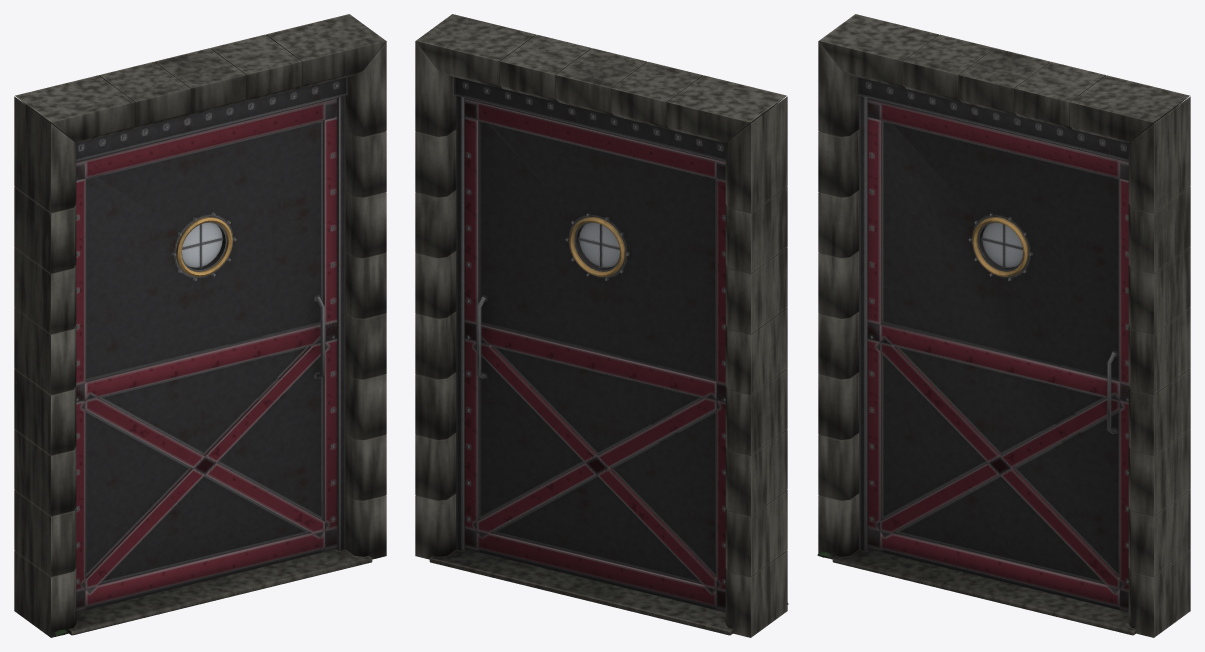
File: SlidingIronDoor.fbx
3 renders of one model, left to right at view 1: azimuth 30°, elevation 25°; view 2: azimuth 150°, elevation 25°; view 3: azimuth 330°, elevation 25°, orthographic.
Parts seen in each view (by area): view 1: SlidingIronDoor_Leaf0, SlidingIronDoor_Main, SlidingIronDoor_Leaf0Glass; view 2: SlidingIronDoor_Leaf0, SlidingIronDoor_Main, SlidingIronDoor_Leaf0Glass; view 3: SlidingIronDoor_Leaf0, SlidingIronDoor_Main, SlidingIronDoor_Leaf0Glass.
Boxes of the visible parts, x1,y1,x2,y2 form: SlidingIronDoor_Leaf0: (76, 98, 337, 611); SlidingIronDoor_Main: (14, 14, 386, 637); SlidingIronDoor_Leaf0Glass: (182, 222, 222, 267); SlidingIronDoor_Leaf0: (464, 98, 725, 612); SlidingIronDoor_Main: (415, 14, 788, 637); SlidingIronDoor_Leaf0Glass: (579, 222, 619, 267); SlidingIronDoor_Leaf0: (867, 98, 1128, 611); SlidingIronDoor_Main: (817, 14, 1190, 637); SlidingIronDoor_Leaf0Glass: (982, 222, 1023, 267).
Size of the model in its own units: 579 by 850 by 134.
